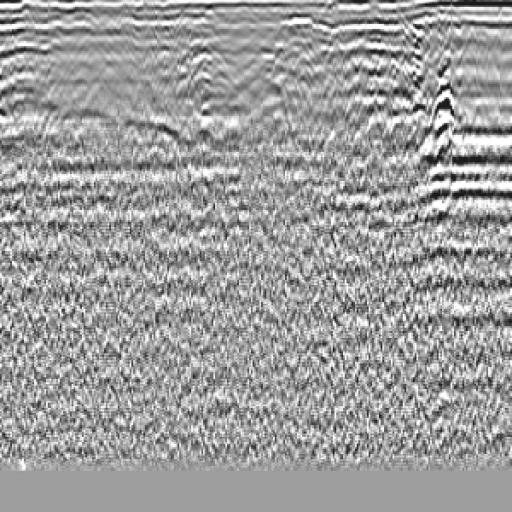metalic: (393, 59, 512, 351)
